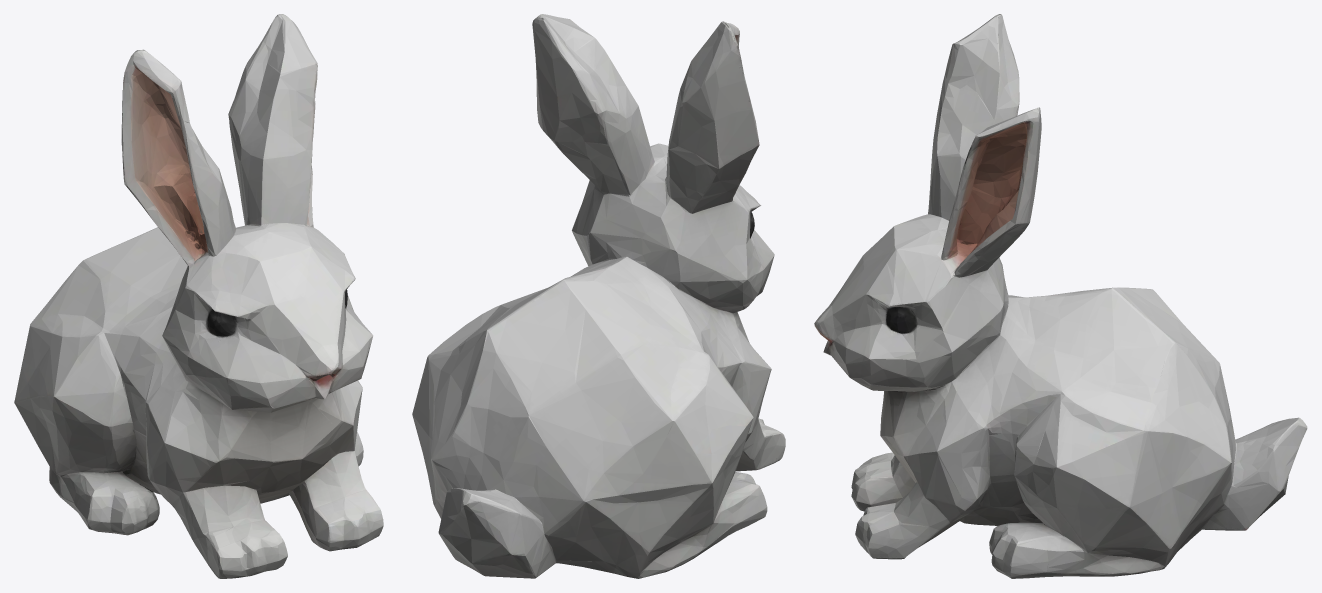
File: arctic_hare.glb
3 views of the same model, side by side, from view 1: azimuth 30°, elevation 25°; view 2: azimuth 150°, elevation 25°; view 3: azimuth 270°, elevation 25° (orthographic). The views are drawn at different scales.
Parts seen in each view (by area): view 1: world; view 2: world; view 3: world.
Part boxes in pixels (x1,y1,x2,y2): world: [14, 14, 383, 578]; world: [412, 14, 785, 578]; world: [814, 14, 1307, 578].
Bounding box in the file's own units: 0.6426 × 0.9995 × 0.9558.
1 material, 1 textured.
